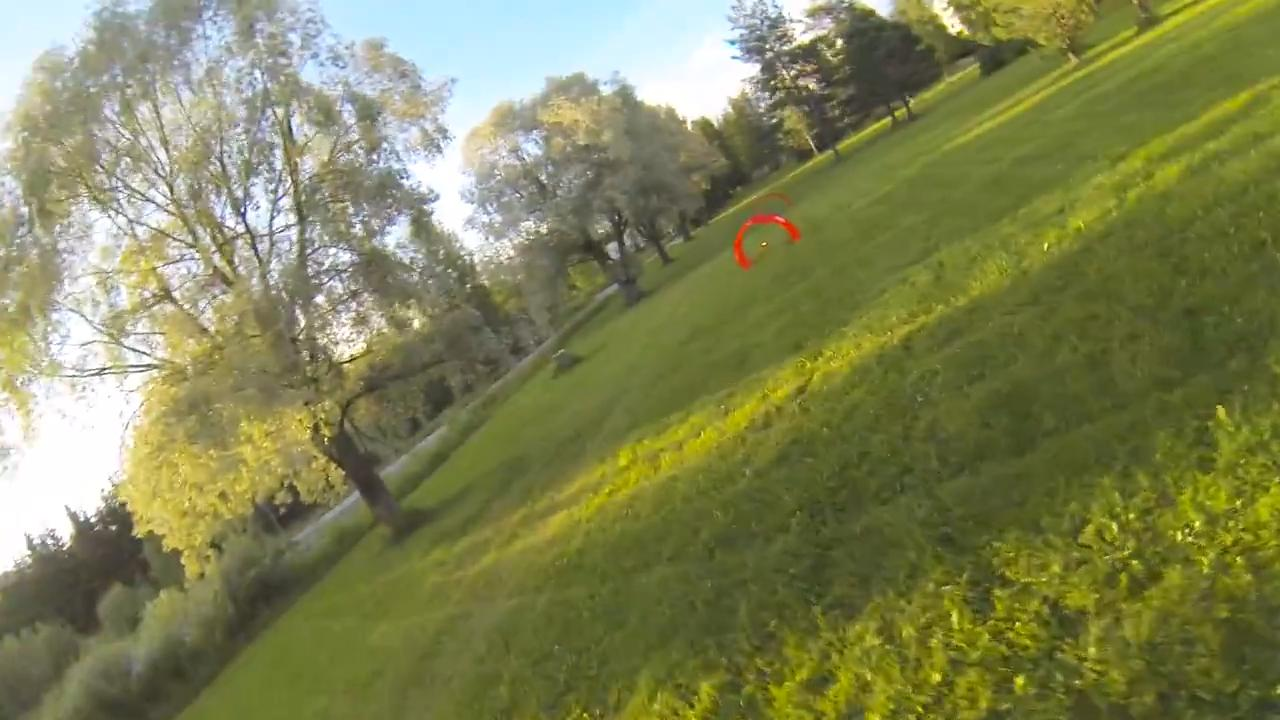gate: (729, 215, 804, 273)
